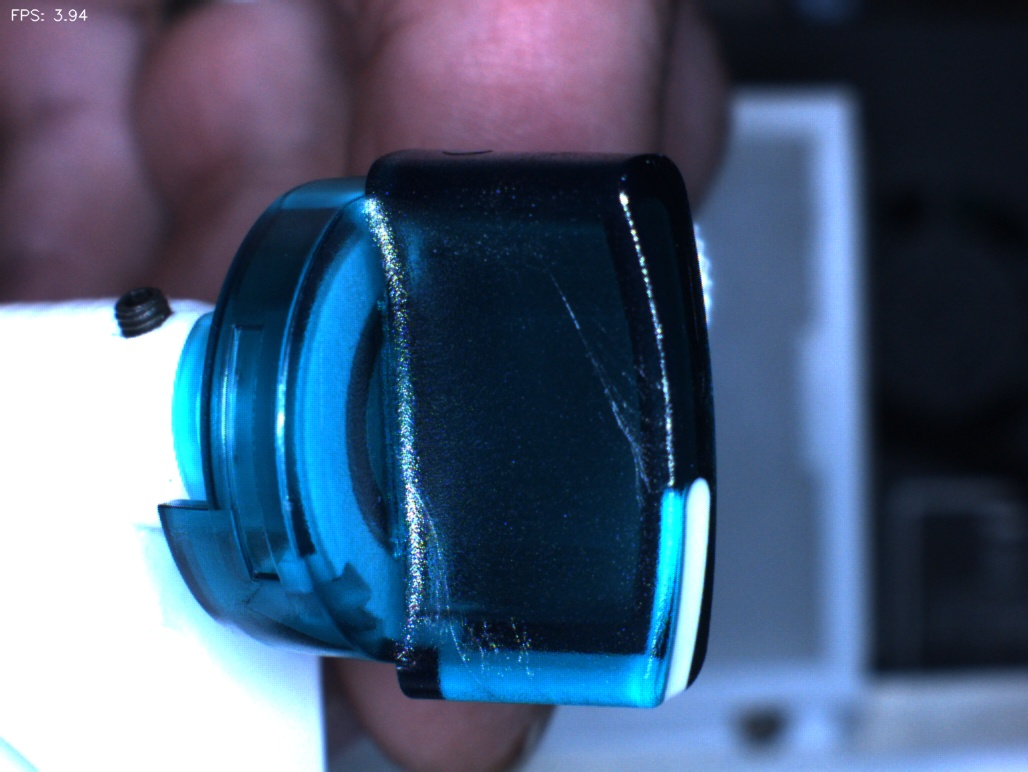Givrage: (439, 580, 546, 688)
